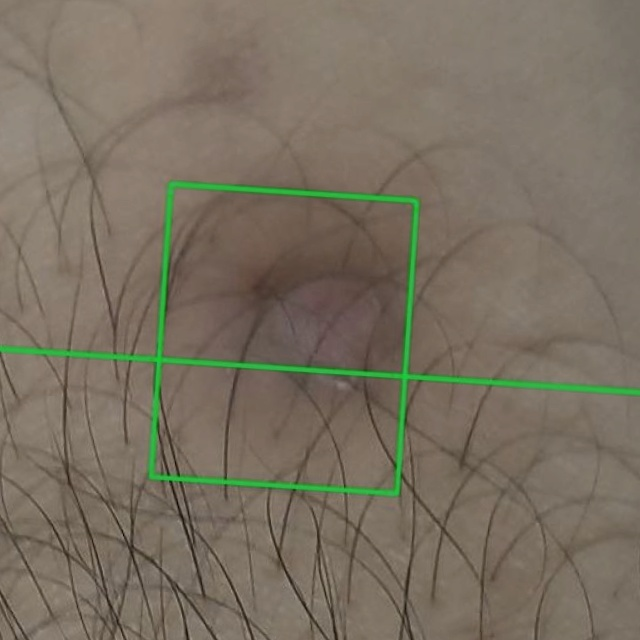Eczema: (0, 0, 639, 392), (151, 184, 416, 493)
